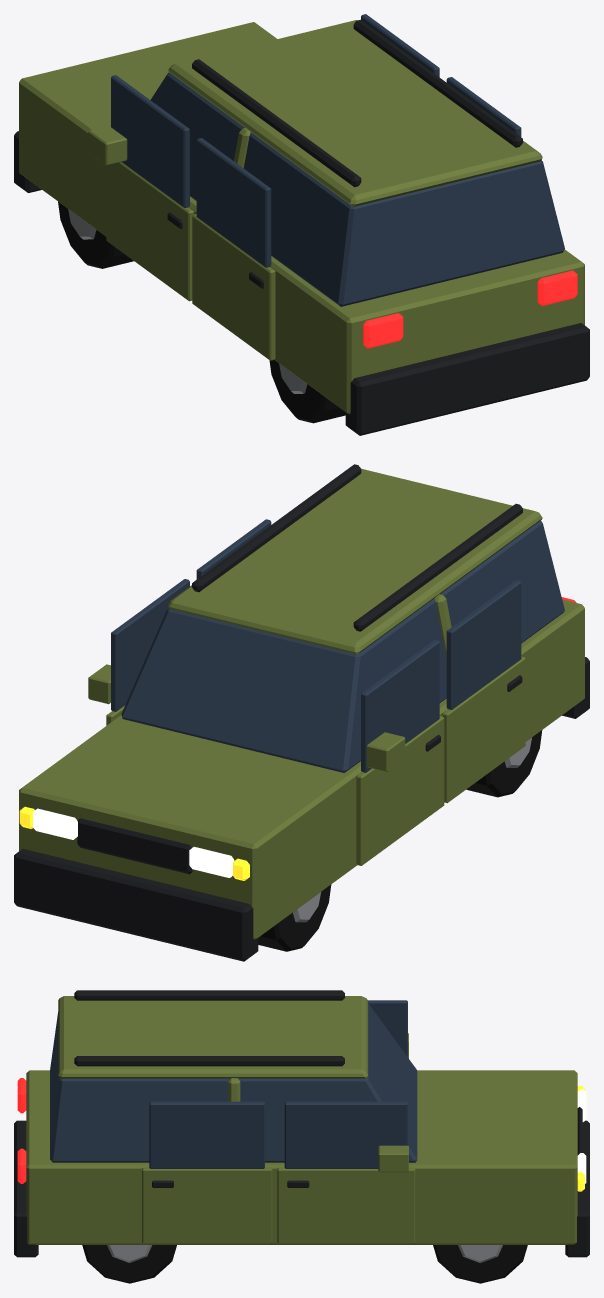
Rendered from car_suv.glb.
The picture shows the model from 3 angles, top to bottom: view 1: azimuth 30°, elevation 25°; view 2: azimuth 150°, elevation 25°; view 3: azimuth 270°, elevation 25°; orthographic projection. The views are drawn at different scales.
Visible parts, largest first — view 1: car_body, car_door_FL, car_door_RL, car_door_FR, car_door_RR; view 2: car_body, car_door_FL, car_door_RL, car_door_FR, car_door_RR; view 3: car_body, car_door_FR, car_door_RR, car_door_FL.
Part boxes in pixels (<box>): car_body: <box>14,19,589,435</box>; car_door_FL: <box>88,75,194,301</box>; car_door_RL: <box>192,138,275,360</box>; car_door_FR: <box>361,14,439,77</box>; car_door_RR: <box>446,77,521,136</box>; car_body: <box>14,464,589,961</box>; car_door_FL: <box>356,640,444,865</box>; car_door_RL: <box>442,580,525,803</box>; car_door_FR: <box>88,579,189,725</box>; car_door_RR: <box>196,519,271,579</box>; car_body: <box>14,990,589,1283</box>; car_door_FR: <box>277,1101,415,1243</box>; car_door_RR: <box>142,1101,272,1243</box>; car_door_FL: <box>368,1000,408,1058</box>.
Bounding box in the file's own units: 2.34 × 1.94 × 4.68.
